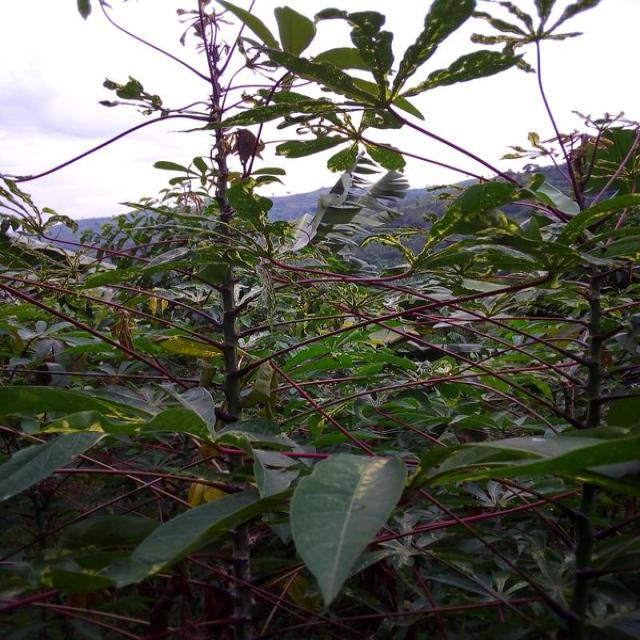cassava leaf: (290, 450, 408, 607)
